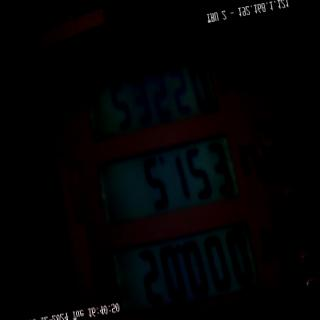screen: (68, 25, 267, 320)
